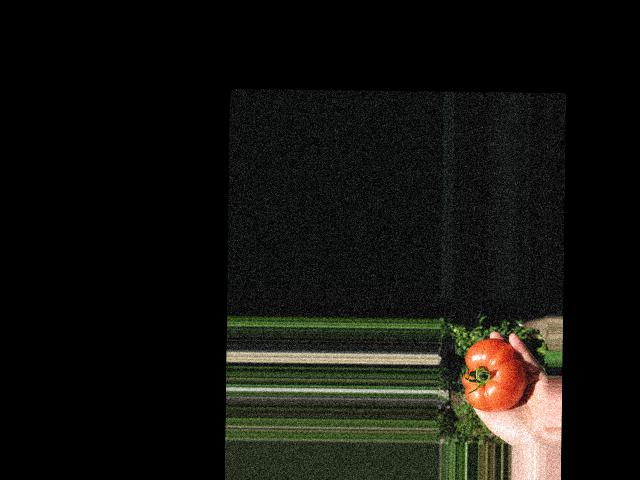tomato: (462, 337, 526, 411)
